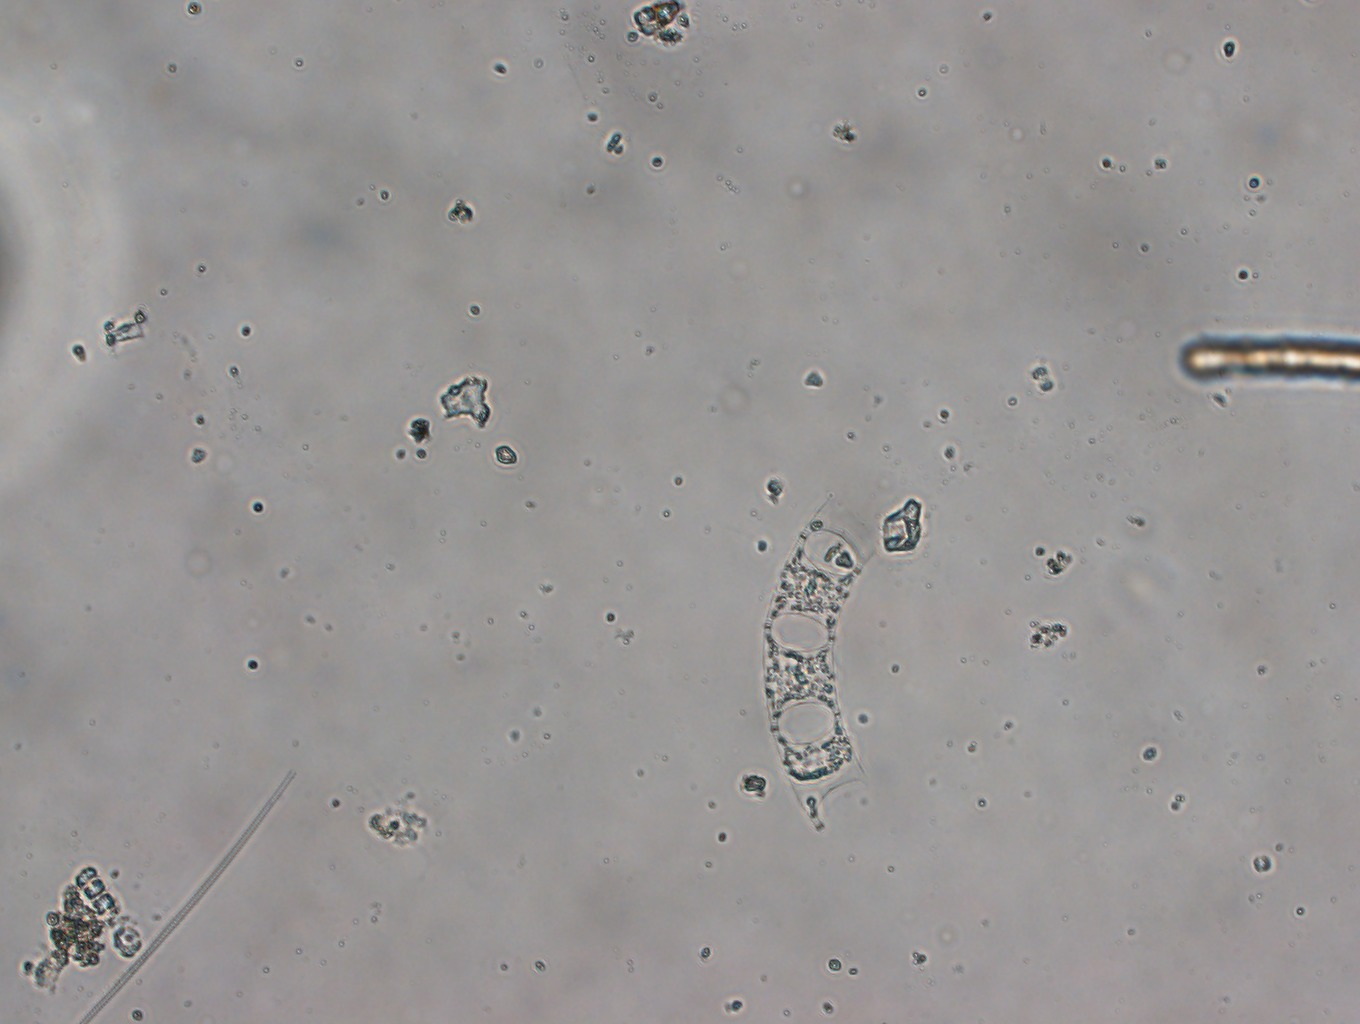eucampia: (762, 489, 875, 833)
